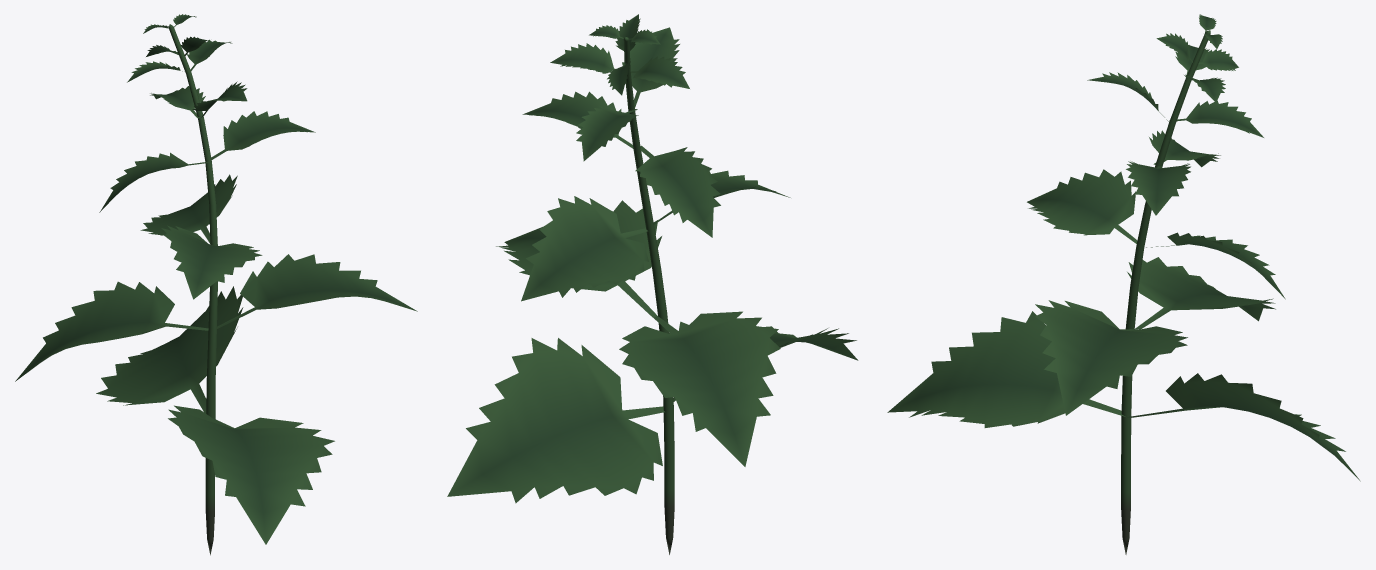
File: plants-leafy-plants-nettle_v3.glb
The picture shows the model from 3 angles, left to right: view 1: azimuth 30°, elevation 25°; view 2: azimuth 150°, elevation 25°; view 3: azimuth 270°, elevation 25°; orthographic projection. The views are drawn at different scales.
Parts seen in each view (by area): view 1: Nettle_v3; view 2: Nettle_v3; view 3: Nettle_v3.
Boxes of the visible parts, <box> form: Nettle_v3: <box>15,14,417,555</box>; Nettle_v3: <box>447,14,858,554</box>; Nettle_v3: <box>887,14,1360,554</box>.
Size of the model in its own units: 0.5163 by 0.8 by 0.6459.
